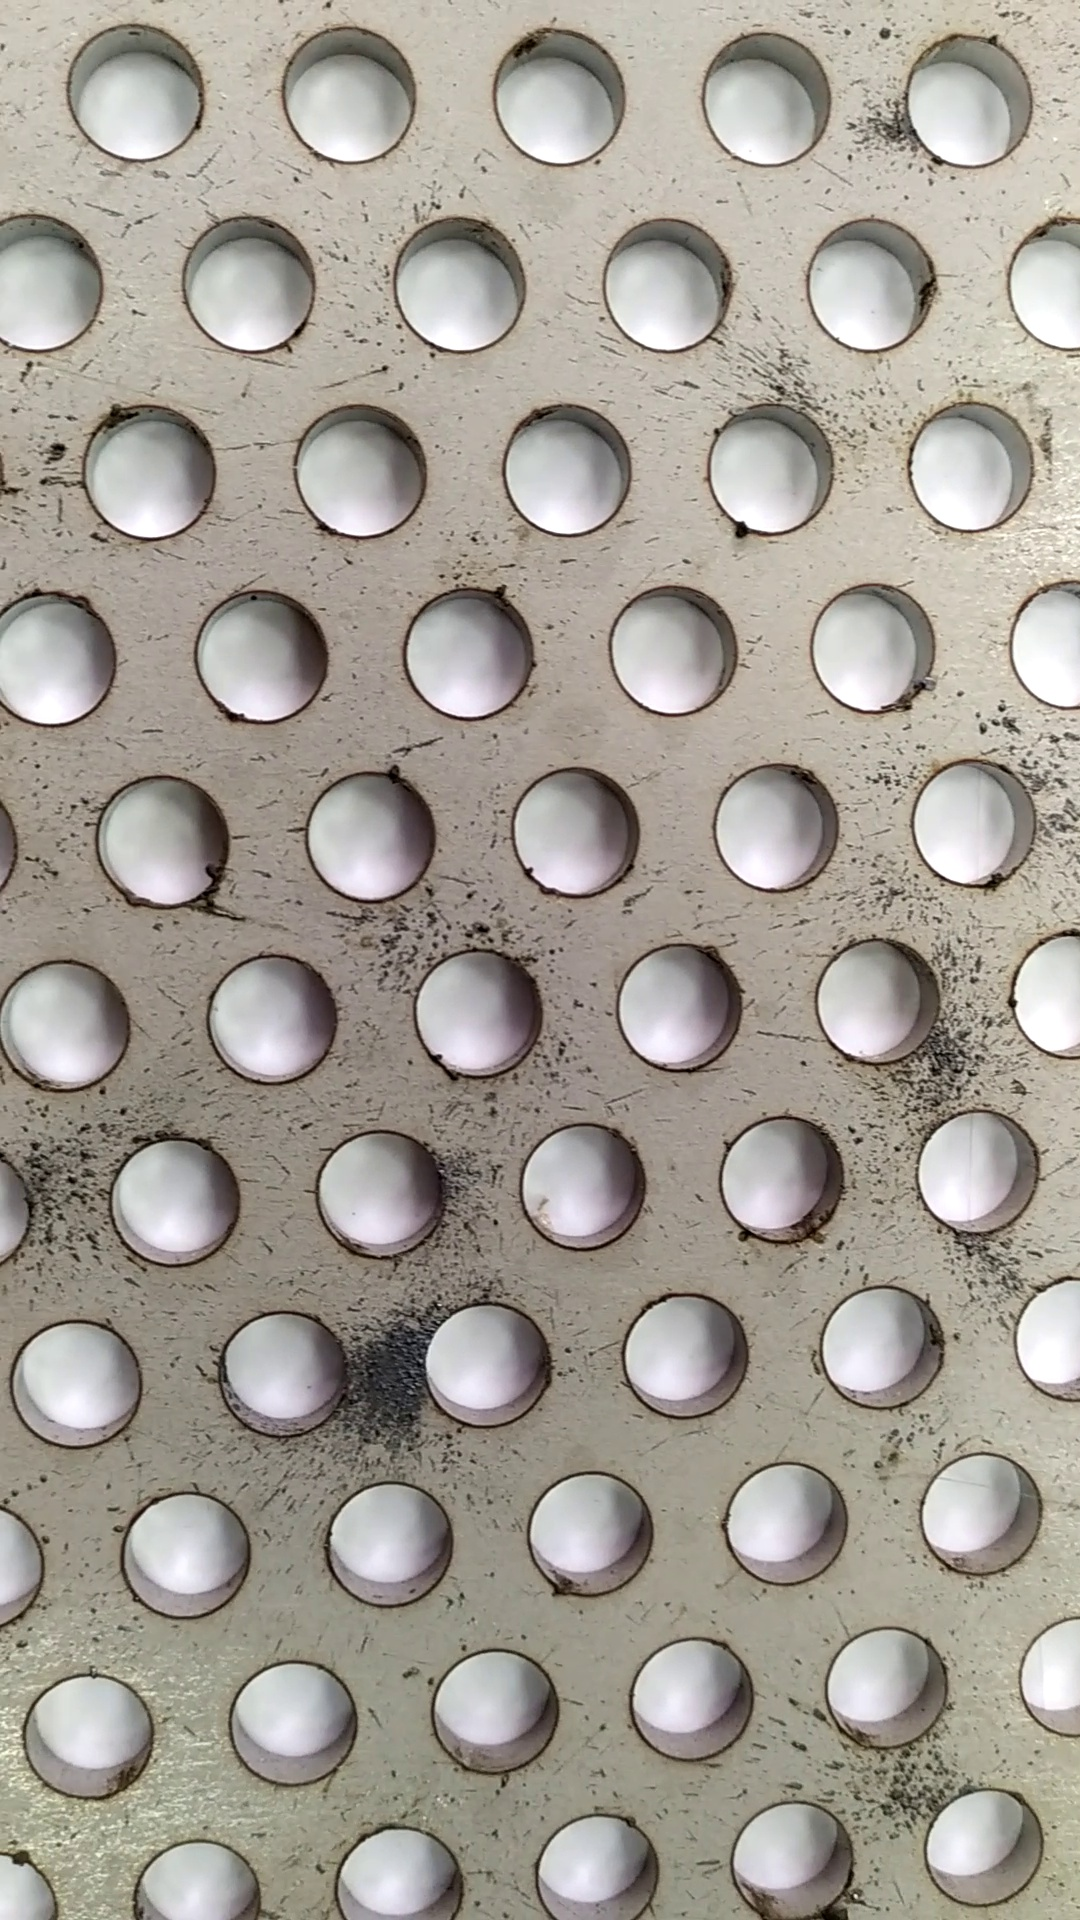Hole: (475, 11, 644, 183), (261, 13, 438, 175), (65, 396, 236, 558), (51, 11, 225, 170), (687, 9, 849, 179), (169, 204, 342, 363), (487, 392, 649, 550), (280, 396, 447, 549), (4, 1294, 157, 1458), (889, 18, 1051, 173), (377, 211, 541, 364), (187, 579, 347, 735), (83, 762, 233, 926), (105, 1481, 272, 1629), (291, 758, 447, 915), (585, 207, 745, 360), (310, 1473, 467, 1625), (392, 578, 551, 727), (611, 1279, 765, 1432), (709, 1447, 862, 1601), (894, 393, 1054, 541), (496, 760, 649, 913), (791, 208, 949, 356), (597, 571, 746, 727), (204, 1303, 361, 1451), (700, 396, 851, 549), (909, 1101, 1062, 1251), (94, 1126, 247, 1275), (407, 1642, 568, 1783), (607, 934, 756, 1085), (810, 1613, 969, 1754), (404, 942, 553, 1089), (200, 942, 345, 1093), (305, 1120, 459, 1262), (508, 1116, 657, 1262), (899, 1443, 1051, 1586), (516, 1462, 663, 1609), (708, 1105, 851, 1255), (214, 1654, 367, 1791), (812, 1275, 959, 1418), (620, 1626, 764, 1770), (800, 928, 945, 1071), (705, 756, 845, 903), (11, 1668, 164, 1803), (800, 575, 943, 717), (414, 1294, 556, 1436), (906, 750, 1043, 897), (1, 956, 138, 1093), (918, 1782, 1054, 1911)
